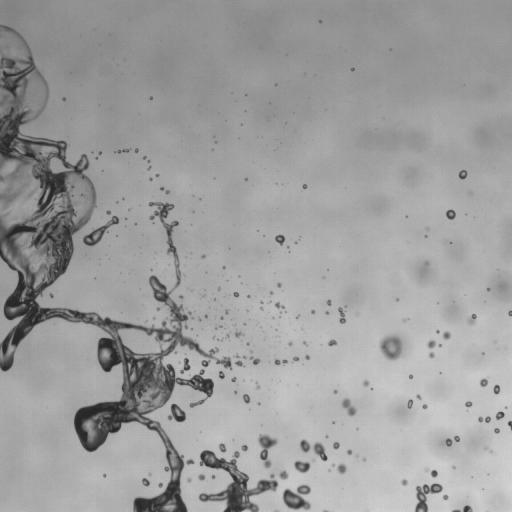droplet: (198, 450, 288, 511), (414, 483, 442, 511), (282, 484, 311, 511), (257, 434, 277, 468), (379, 335, 401, 360), (167, 404, 186, 422), (294, 460, 310, 473), (275, 302, 285, 314), (445, 209, 455, 219), (336, 463, 346, 473), (467, 314, 476, 325), (275, 234, 284, 244), (250, 356, 260, 365), (478, 416, 490, 423), (458, 170, 467, 179), (441, 331, 450, 339), (427, 340, 436, 348), (495, 411, 504, 419), (493, 384, 500, 394), (234, 330, 243, 337), (328, 339, 337, 346), (243, 394, 250, 403), (219, 443, 226, 452), (480, 378, 487, 386), (142, 478, 149, 486), (465, 401, 472, 408), (407, 399, 412, 408), (218, 371, 224, 378), (362, 380, 369, 386), (333, 442, 339, 449), (241, 444, 247, 451), (198, 474, 205, 480), (292, 356, 298, 362), (401, 479, 407, 485), (326, 299, 331, 305), (429, 352, 434, 358), (442, 495, 448, 500), (233, 292, 238, 297), (416, 394, 421, 399), (422, 404, 427, 409), (494, 428, 499, 433), (215, 325, 221, 329), (256, 383, 260, 389), (302, 184, 307, 188), (424, 261, 429, 265), (225, 333, 229, 338), (231, 377, 236, 381), (347, 449, 351, 454), (187, 477, 191, 482), (508, 310, 511, 316), (134, 149, 138, 153), (106, 210, 110, 214), (277, 283, 281, 287), (179, 295, 183, 299), (225, 309, 229, 313), (403, 318, 407, 322), (303, 341, 307, 345), (305, 355, 309, 359), (333, 389, 337, 393), (158, 483, 162, 487), (289, 341, 292, 346), (98, 151, 101, 155), (202, 254, 205, 258), (49, 294, 53, 297), (156, 307, 160, 310), (311, 310, 315, 313), (351, 68, 354, 71), (247, 295, 250, 298), (296, 315, 299, 318), (436, 330, 439, 333), (409, 375, 412, 378), (489, 450, 492, 453), (212, 475, 215, 478), (270, 291, 272, 295), (63, 97, 65, 100), (95, 156, 97, 159), (149, 178, 152, 180), (218, 287, 220, 290), (326, 311, 328, 314), (363, 458, 365, 461), (148, 473, 151, 475), (103, 474, 106, 476), (319, 20, 321, 22), (148, 167, 150, 169), (156, 174, 158, 176), (396, 299, 398, 301), (260, 307, 262, 309), (198, 318, 200, 320), (439, 345, 441, 347), (243, 356, 245, 358), (234, 391, 236, 393)
ligament: (0, 24, 232, 511), (82, 216, 119, 246), (300, 439, 327, 461), (341, 398, 356, 416), (445, 435, 459, 446), (180, 358, 190, 373), (234, 354, 244, 366), (452, 505, 472, 511), (424, 468, 437, 477), (338, 307, 345, 323), (116, 148, 130, 153), (274, 359, 287, 364), (160, 187, 169, 194), (143, 156, 150, 162), (507, 420, 511, 429), (323, 510, 328, 511), (275, 510, 278, 511)
